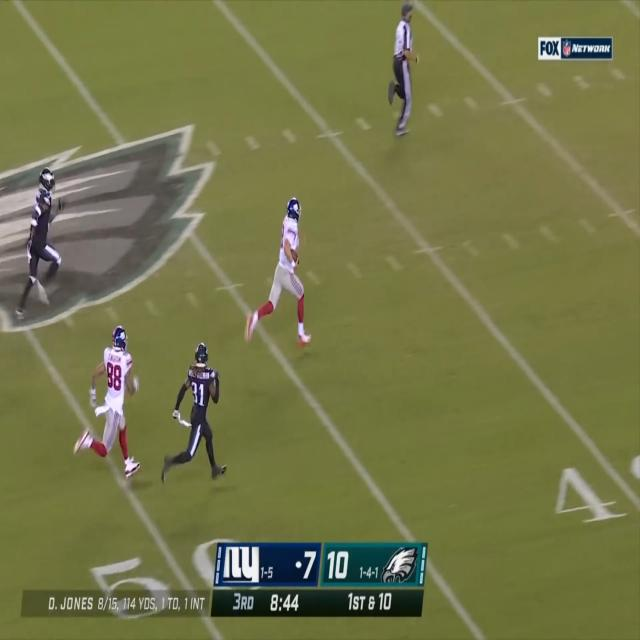football: (290, 249, 300, 266)
players: (157, 339, 226, 497), (80, 322, 142, 488), (245, 198, 311, 343), (18, 163, 63, 322)
